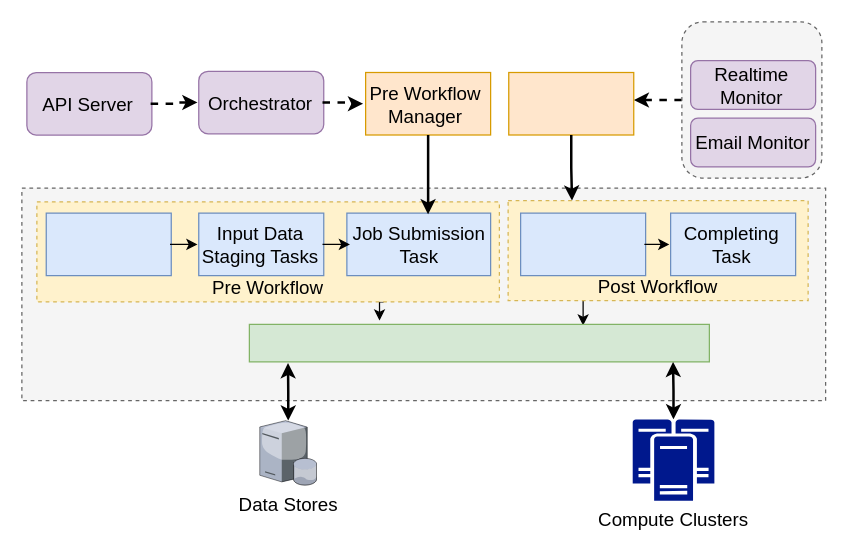
Image size: 848x554. Some labels were removed from this diagram. The box of each missing label's shape, as (x1, y1, x2, y2) in pixels:
Adaptor Support (SSH, SCP): (248, 323, 709, 362)
Environment Setup Tasks: (45, 212, 171, 276)
Helix Framework: (21, 187, 826, 401)
Job Monitors: (681, 21, 822, 178)
Output Data Staging Tasks: (519, 212, 646, 276)
Post Workflow Manager: (508, 71, 634, 135)
